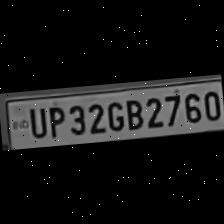0: (200, 86, 222, 121)
2: (142, 92, 164, 128), (85, 99, 106, 134)
3: (66, 99, 88, 136)
6: (180, 88, 202, 124)
7: (160, 90, 180, 126)
B: (122, 94, 144, 130)
G: (104, 97, 124, 132)
P: (45, 102, 66, 138)
U: (24, 103, 46, 138)
